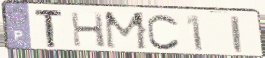1: (185, 14, 205, 52)
C: (146, 13, 183, 52)
H: (69, 11, 108, 49)
I: (228, 14, 245, 55)
M: (102, 10, 150, 52)
T: (34, 9, 65, 50)
